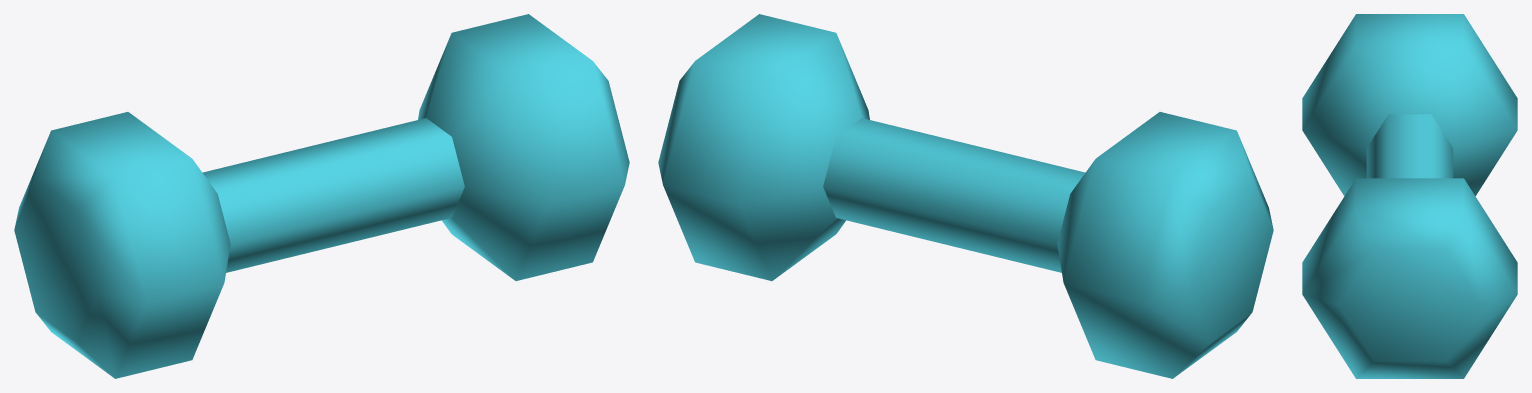
Rendered from training_002.fbx.
3 renders of one model, left to right at view 1: azimuth 30°, elevation 25°; view 2: azimuth 150°, elevation 25°; view 3: azimuth 270°, elevation 25°, orthographic. The views are drawn at different scales.
Visible parts, largest first — view 1: training_002; view 2: training_002; view 3: training_002.
Boxes of the visible parts, <box> form: training_002: <box>14,14,629,378</box>; training_002: <box>658,14,1273,378</box>; training_002: <box>1302,14,1517,378</box>.
Bounding box in the file's own units: 33.5 × 14.02 × 12.15.
